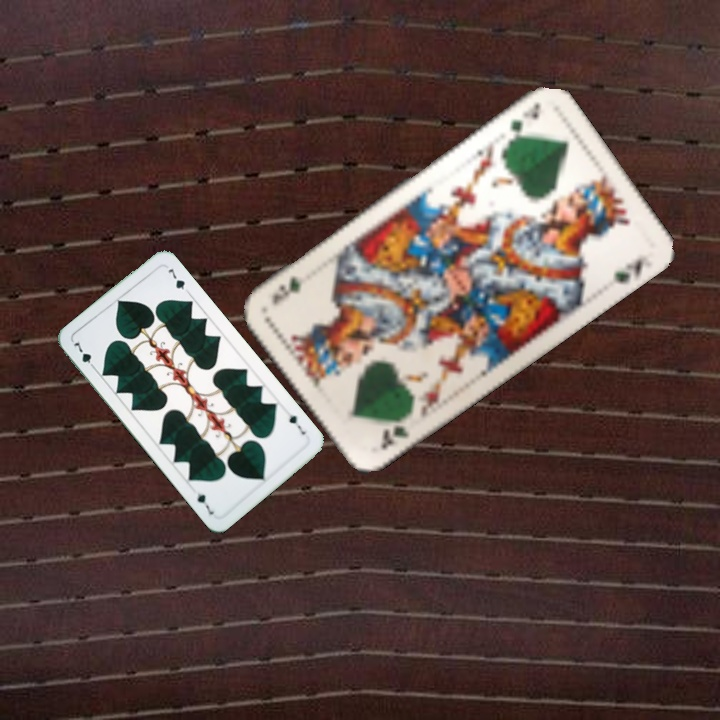G7: (69, 337, 99, 373), (285, 410, 309, 437)
GK: (505, 99, 544, 135), (377, 421, 412, 453)
